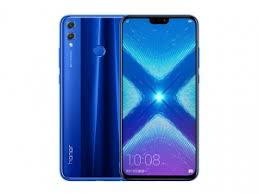asus: (117, 12, 202, 182), (57, 12, 122, 179)
